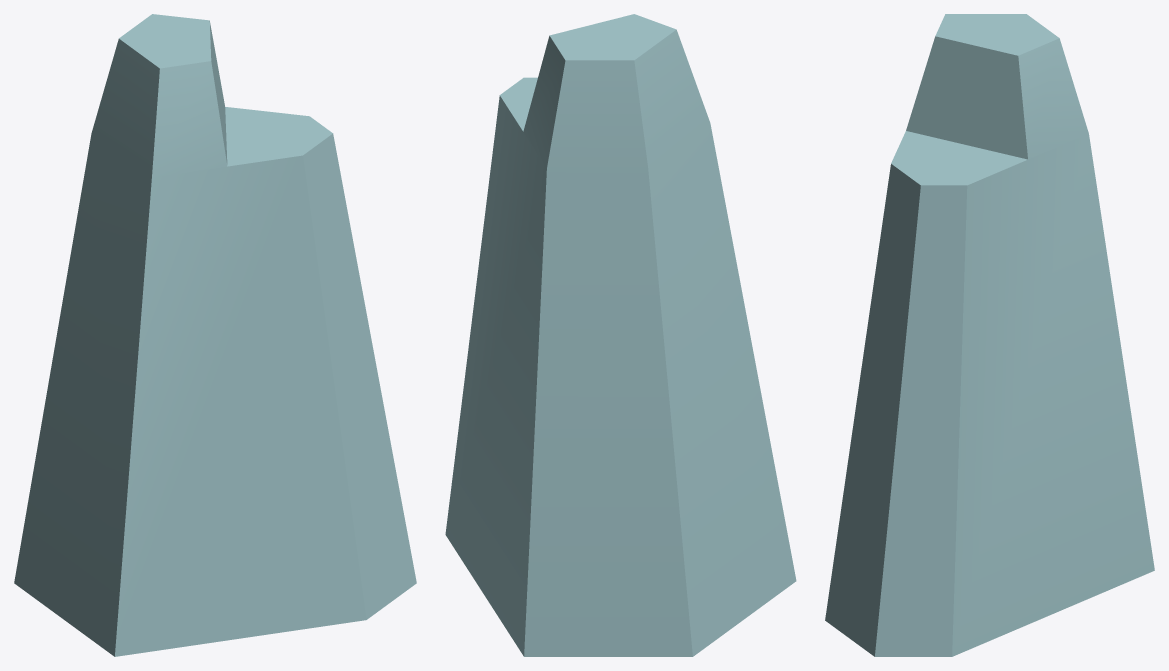
Rendered from stone_tall3.fbx.
The picture shows the model from 3 angles, left to right: view 1: azimuth 30°, elevation 25°; view 2: azimuth 150°, elevation 25°; view 3: azimuth 270°, elevation 25°; orthographic projection. The views are drawn at different scales.
Parts seen in each view (by area): view 1: stone_tall3; view 2: stone_tall3; view 3: stone_tall3.
Boxes of the visible parts, box(x1,y1,x2,y2) form: stone_tall3: box(14, 14, 416, 656); stone_tall3: box(445, 14, 796, 656); stone_tall3: box(825, 14, 1154, 656).
Size of the model in its own units: 4.56 by 7.83 by 4.37.
